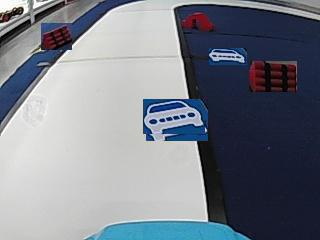bridge: (182, 11, 214, 31)
